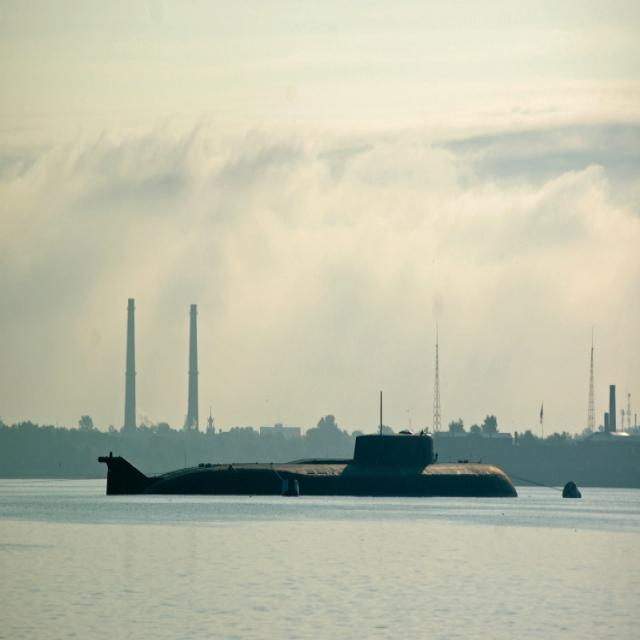submarine: (100, 429, 592, 498)
